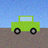vehicle: (11, 16, 39, 34)
